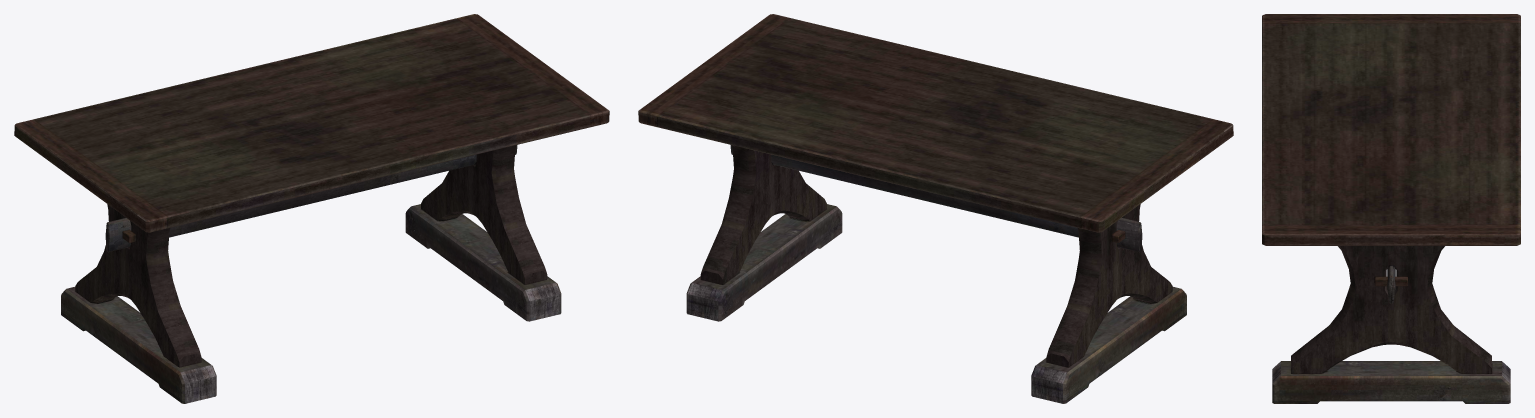
Rendered from table.gltf.
3 renders of one model, left to right at view 1: azimuth 30°, elevation 25°; view 2: azimuth 150°, elevation 25°; view 3: azimuth 270°, elevation 25°, orthographic. The views are drawn at different scales.
Visible parts, largest first — view 1: Desk_LP; view 2: Desk_LP; view 3: Desk_LP.
Part boxes in pixels (box(x1,y1,x2,y2)): Desk_LP: box(14, 14, 609, 403); Desk_LP: box(638, 14, 1233, 403); Desk_LP: box(1262, 14, 1520, 403).
Size of the model in its own units: 200 by 81.84 by 100.
1 material, 1 textured.
